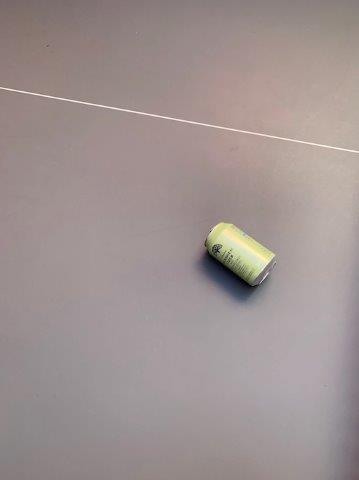kaleng: (204, 222, 277, 286)
